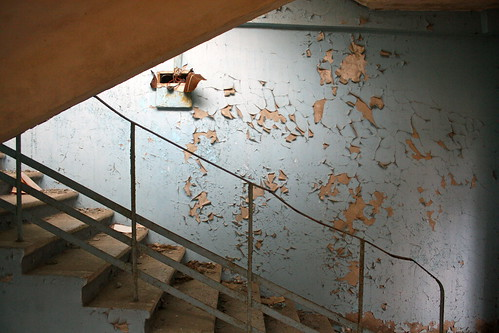wall: (180, 15, 499, 306)
